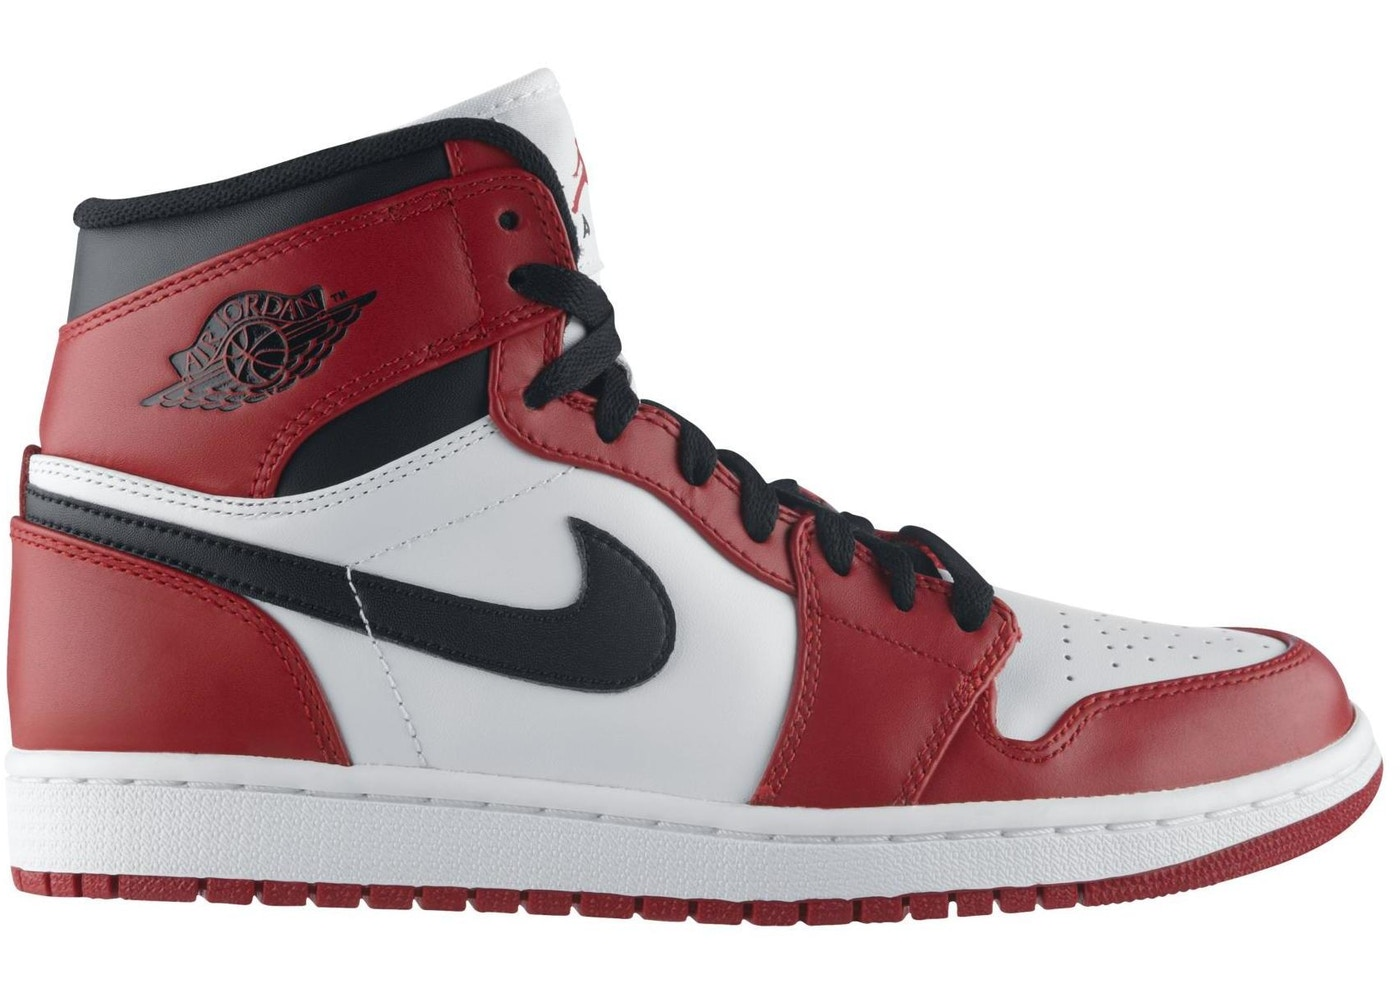Jordan 1: (5, 64, 1388, 937)
